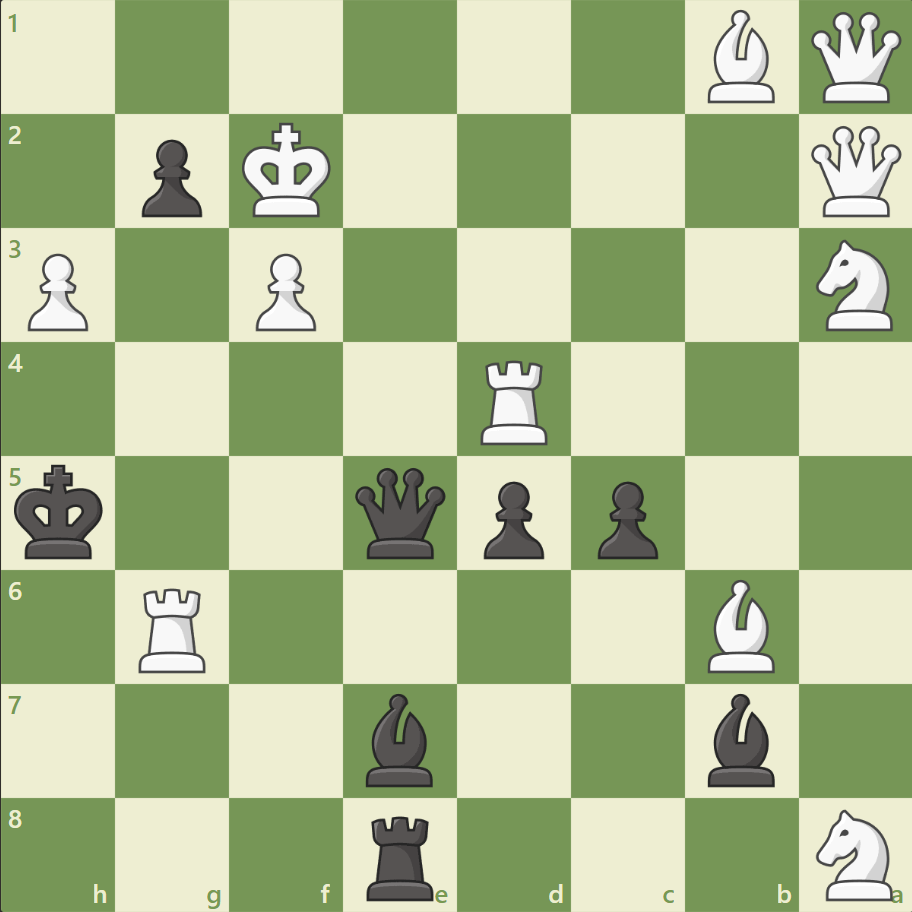B: (698, 6, 782, 109), (698, 574, 782, 676)
K: (238, 117, 338, 225)
N: (806, 234, 903, 337), (806, 802, 903, 904)
P: (247, 246, 322, 337), (20, 246, 95, 337)
Q: (805, 122, 904, 222), (805, 9, 904, 108)
R: (473, 352, 556, 449), (133, 579, 215, 676)
b: (698, 687, 782, 790), (358, 687, 442, 790)
k: (11, 458, 111, 566)
p: (474, 473, 549, 564), (133, 132, 208, 223), (588, 473, 662, 564)
q: (351, 463, 450, 562)
r: (360, 806, 442, 904)
